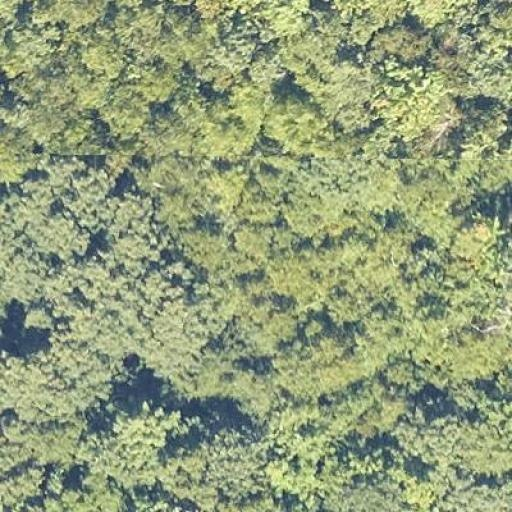tree-top: (9, 0, 199, 146), (240, 256, 413, 409), (3, 273, 132, 429), (141, 161, 287, 268), (185, 410, 300, 512), (14, 151, 119, 261), (131, 265, 233, 374), (266, 158, 400, 240), (412, 272, 512, 381), (0, 413, 100, 504), (392, 401, 512, 475), (254, 86, 364, 157), (370, 48, 454, 140), (192, 83, 268, 163), (106, 392, 188, 458), (315, 455, 399, 512), (449, 201, 503, 274), (262, 0, 306, 42)
